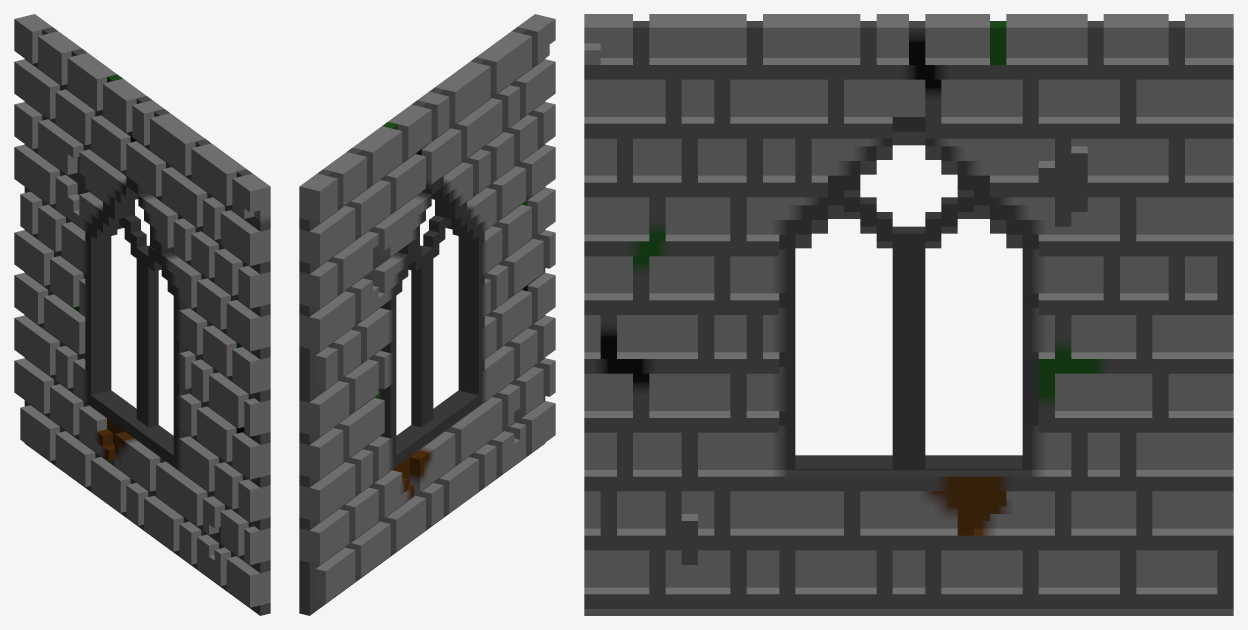
The model's file is Window Wall.fbx.
The picture shows the model from 3 angles, left to right: view 1: azimuth 30°, elevation 25°; view 2: azimuth 150°, elevation 25°; view 3: azimuth 270°, elevation 25°; orthographic projection. The views are drawn at different scales.
Parts seen in each view (by area): view 1: WindowWall; view 2: WindowWall; view 3: WindowWall.
Part boxes in pixels (x1,y1,x2,y2): WindowWall: (14, 14, 270, 615); WindowWall: (299, 14, 555, 615); WindowWall: (584, 14, 1233, 615).
Size of the model in its own units: 10 by 200 by 200.
